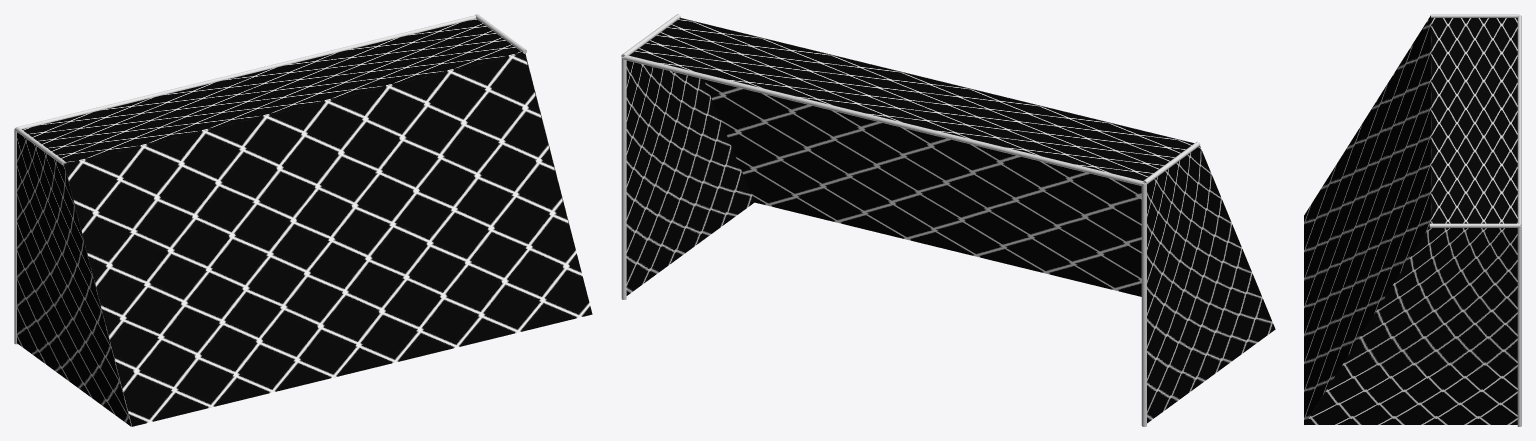
The model's file is soccergoal.fbx.
3 views of the same model, side by side, from view 1: azimuth 30°, elevation 25°; view 2: azimuth 150°, elevation 25°; view 3: azimuth 270°, elevation 25° (orthographic). The views are drawn at different scales.
Parts seen in each view (by area): view 1: pCylinder7; view 2: pCylinder7; view 3: pCylinder7.
Boxes of the visible parts, x1,y1,x2,y2 form: pCylinder7: [14, 14, 592, 426]; pCylinder7: [621, 14, 1275, 426]; pCylinder7: [1304, 14, 1521, 426].
Bounding box in the file's own units: 18.16 × 8.1 × 7.9.
2 materials, 1 textured.
